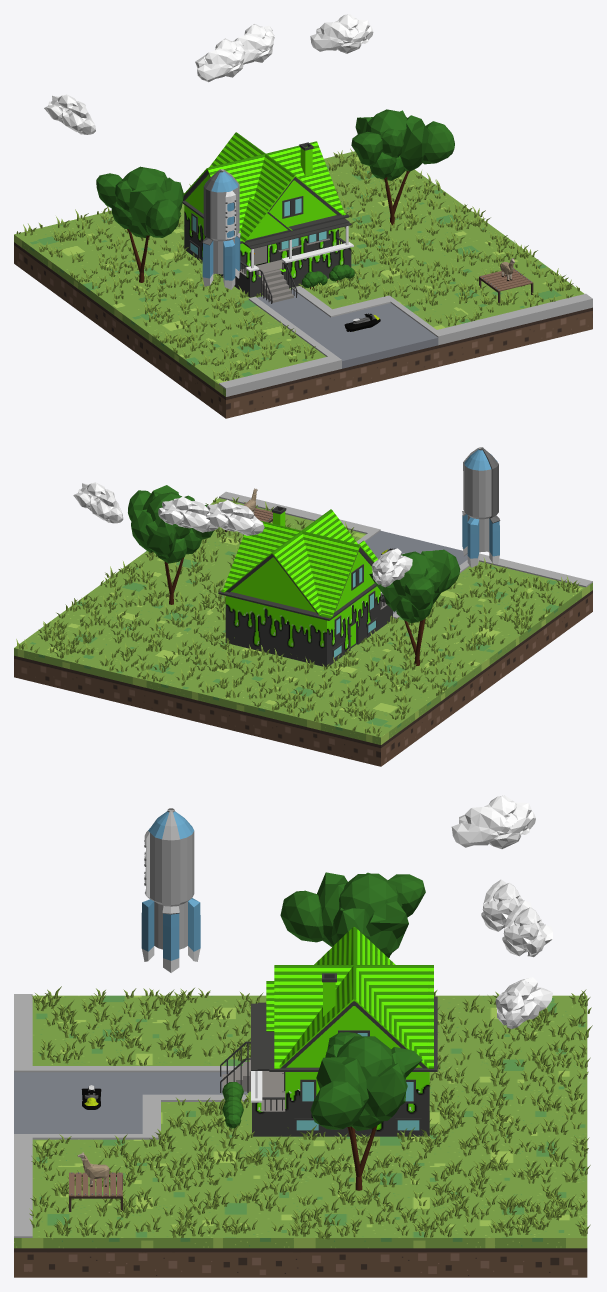
3 views of the same model, one above another, from view 1: azimuth 30°, elevation 25°; view 2: azimuth 150°, elevation 25°; view 3: azimuth 270°, elevation 25° (orthographic). The views are drawn at different scales.
Parts seen in each view (by area): view 1: Cube.006, Circle.012_Grass_0.192, Cube.754, Cube.007, tree, tree.001, OBJRANDOM_ROCKETSHIP, Cube.009; view 2: Cube.006, Cube.754, Circle.012_Grass_0.192, Cube.007, OBJRANDOM_ROCKETSHIP, tree.001, tree; view 3: Cube.006, Circle.012_Grass_0.192, Cube.754, tree, Cube.007, tree.001, OBJRANDOM_ROCKETSHIP, Cube.009.
Boxes of the visible parts, bbox=[...] form: Cube.006: bbox=[14, 151, 592, 418]; Circle.012_Grass_0.192: bbox=[16, 148, 579, 381]; Cube.754: bbox=[182, 132, 353, 303]; Cube.007: bbox=[44, 14, 373, 134]; tree: bbox=[351, 109, 454, 225]; tree.001: bbox=[96, 166, 183, 282]; OBJRANDOM_ROCKETSHIP: bbox=[202, 169, 240, 289]; Cube.009: bbox=[479, 268, 533, 302]; Cube.006: bbox=[14, 491, 592, 766]; Cube.754: bbox=[218, 506, 392, 667]; Circle.012_Grass_0.192: bbox=[16, 497, 579, 736]; Cube.007: bbox=[73, 482, 412, 587]; OBJRANDOM_ROCKETSHIP: bbox=[462, 447, 500, 567]; tree.001: bbox=[369, 549, 460, 665]; tree: bbox=[128, 485, 213, 604]; Cube.006: bbox=[14, 994, 587, 1277]; Circle.012_Grass_0.192: bbox=[29, 986, 592, 1239]; Cube.754: bbox=[220, 927, 437, 1136]; tree: bbox=[310, 1032, 422, 1190]; Cube.007: bbox=[451, 795, 552, 1029]; tree.001: bbox=[280, 872, 425, 957]; OBJRANDOM_ROCKETSHIP: bbox=[141, 808, 200, 972]; Cube.009: bbox=[69, 1172, 122, 1211].
Bounding box in the file's own units: 4071 × 2179 × 4040.
30 materials, 4 textured.
